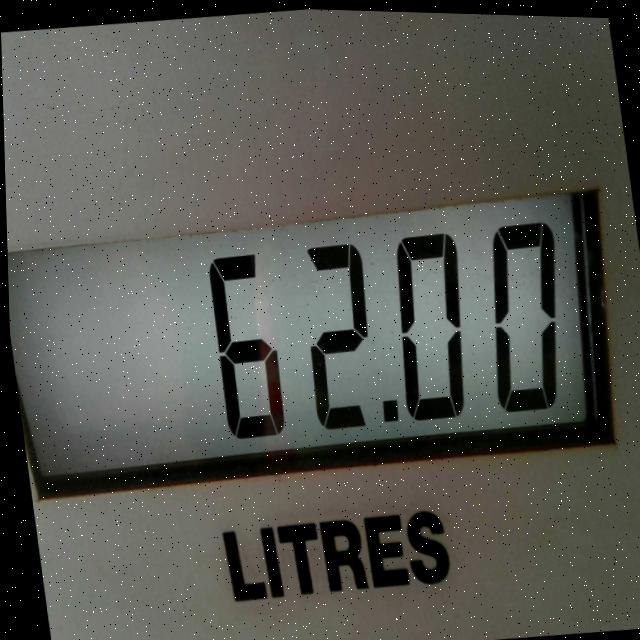.: (366, 383, 407, 439)
0: (369, 209, 488, 445), (465, 194, 576, 420)
2: (285, 224, 385, 434)
6: (174, 237, 306, 449)
